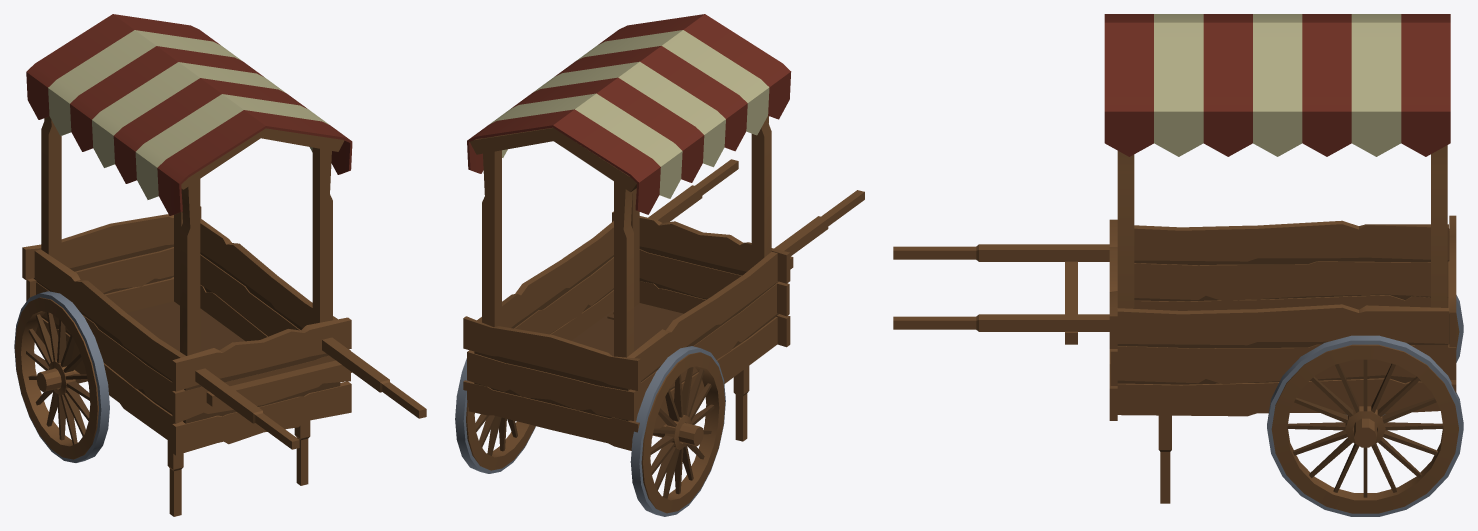
File: cart.glb
The picture shows the model from 3 angles, left to right: view 1: azimuth 30°, elevation 25°; view 2: azimuth 150°, elevation 25°; view 3: azimuth 270°, elevation 25°; orthographic projection. The views are drawn at different scales.
Parts seen in each view (by area): view 1: Cart; view 2: Cart; view 3: Cart.
Part boxes in pixels (box(x1,y1,x2,y2)): Cart: box(14, 14, 426, 516); Cart: box(455, 14, 864, 516); Cart: box(893, 14, 1463, 516).
Size of the model in its own units: 0.462 by 0.7961 by 0.9274.
